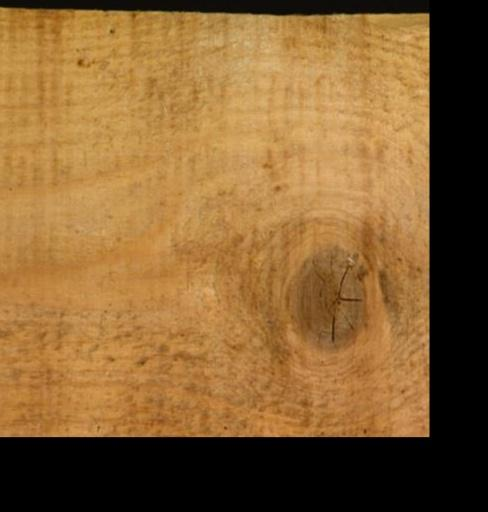sound_knot: (278, 240, 373, 353)
